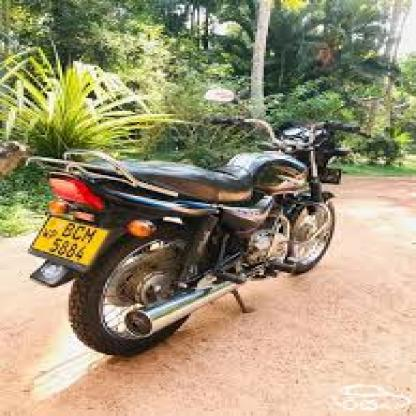bike back: (24, 92, 380, 361)
number plate: (35, 219, 100, 264)
